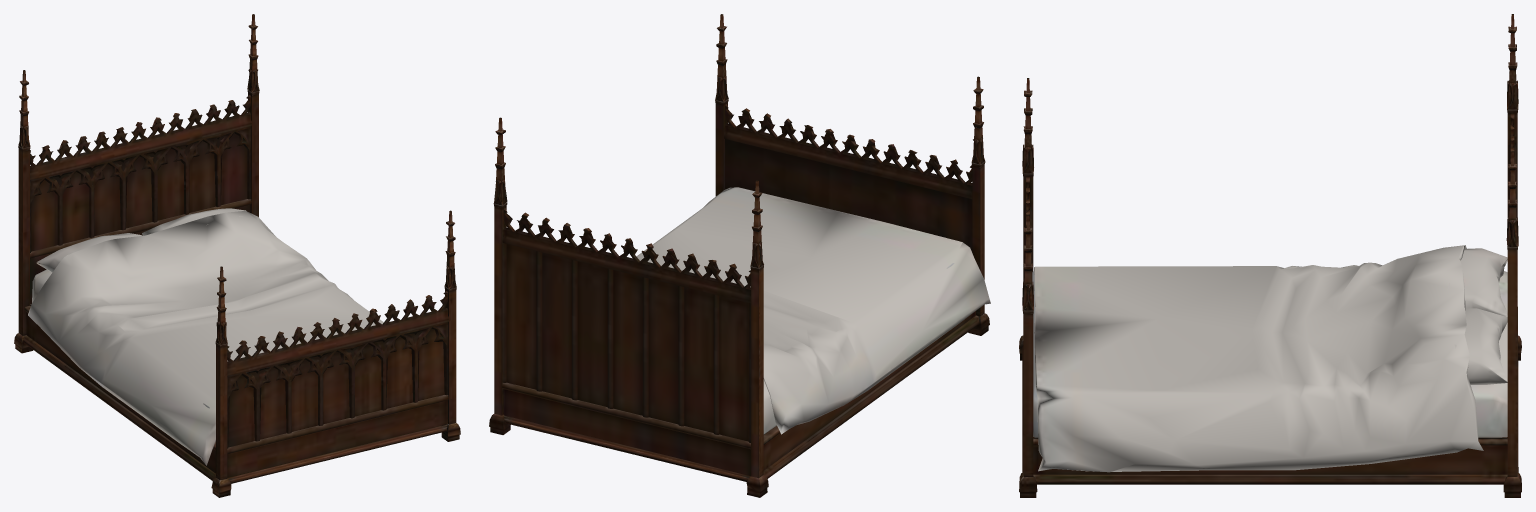
The model's file is bed-gothic.lite.bd455355.glb.
3 views of the same model, side by side, from view 1: azimuth 30°, elevation 25°; view 2: azimuth 150°, elevation 25°; view 3: azimuth 270°, elevation 25° (orthographic). The views are drawn at different scales.
Visible parts, largest first — view 1: model; view 2: model; view 3: model.
Part boxes in pixels (x1,y1,x2,y2): model: (14,14,460,497); model: (489,14,990,497); model: (1019,14,1521,497).
Size of the model in its own units: 1.49 by 1.53 by 2.04.
1 material, 1 textured.
